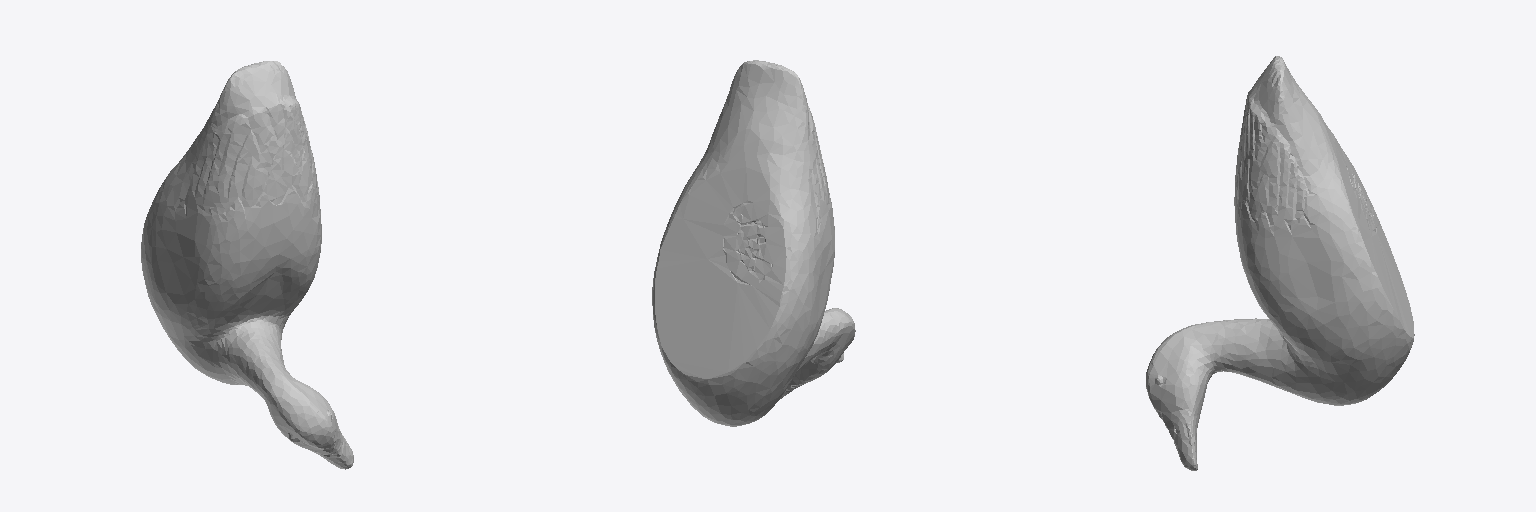
File: nrcc_duck.obj
The picture shows the model from 3 angles: view 1: azimuth 30°, elevation 25°; view 2: azimuth 150°, elevation 25°; view 3: azimuth 270°, elevation 25°; orthographic projection.
Bounding box in the file's own units: 0.8055 × 2 × 1.27.